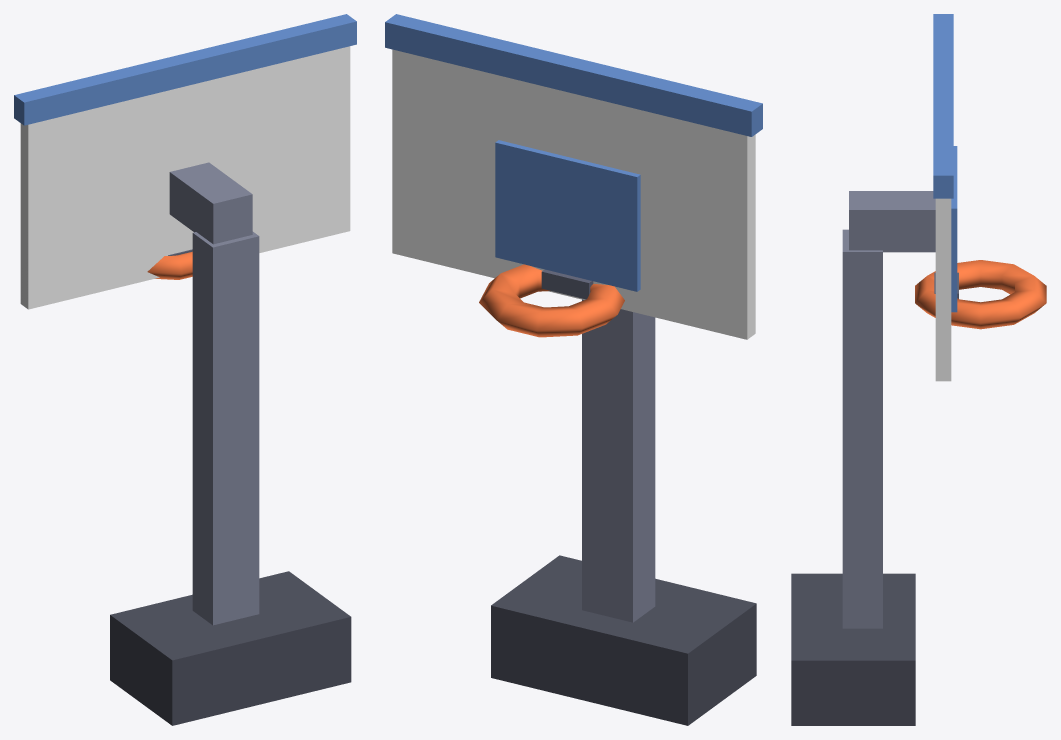
Rendered from panier-basket.glb.
The picture shows the model from 3 angles, left to right: view 1: azimuth 30°, elevation 25°; view 2: azimuth 150°, elevation 25°; view 3: azimuth 270°, elevation 25°; orthographic projection. The views are drawn at different scales.
Parts seen in each view (by area): view 1: panneau, mat, lest, panneau-bord, bras, arceau; view 2: panneau, lest, mat, panneau-carre, panneau-bord, arceau, attache; view 3: lest, mat, arceau, bras, panneau-bord, panneau, panneau-carre.
Boxes of the visible parts, x1,y1,x2,y2 form: panneau: (20,46,350,309); mat: (192,231,259,625); lest: (110,571,351,725); panneau-bord: (14,14,356,125); bras: (169,162,252,244); arceau: (147,251,192,279); panneau: (392,49,755,339); lest: (491,555,756,725); mat: (582,299,655,622); panneau-carre: (495,140,640,291); panneau-bord: (385,14,762,136); arceau: (479,264,624,337); attache: (541,269,593,299); lest: (791,573,915,725); mat: (842,229,882,628); arceau: (915,260,1046,329); bras: (849,191,935,252); panneau-bord: (933,14,953,198); panneau: (935,198,951,381); panneau-carre: (951,146,957,312).
Bounding box in the file's own units: 0.09 × 0.1525 × 0.06.
